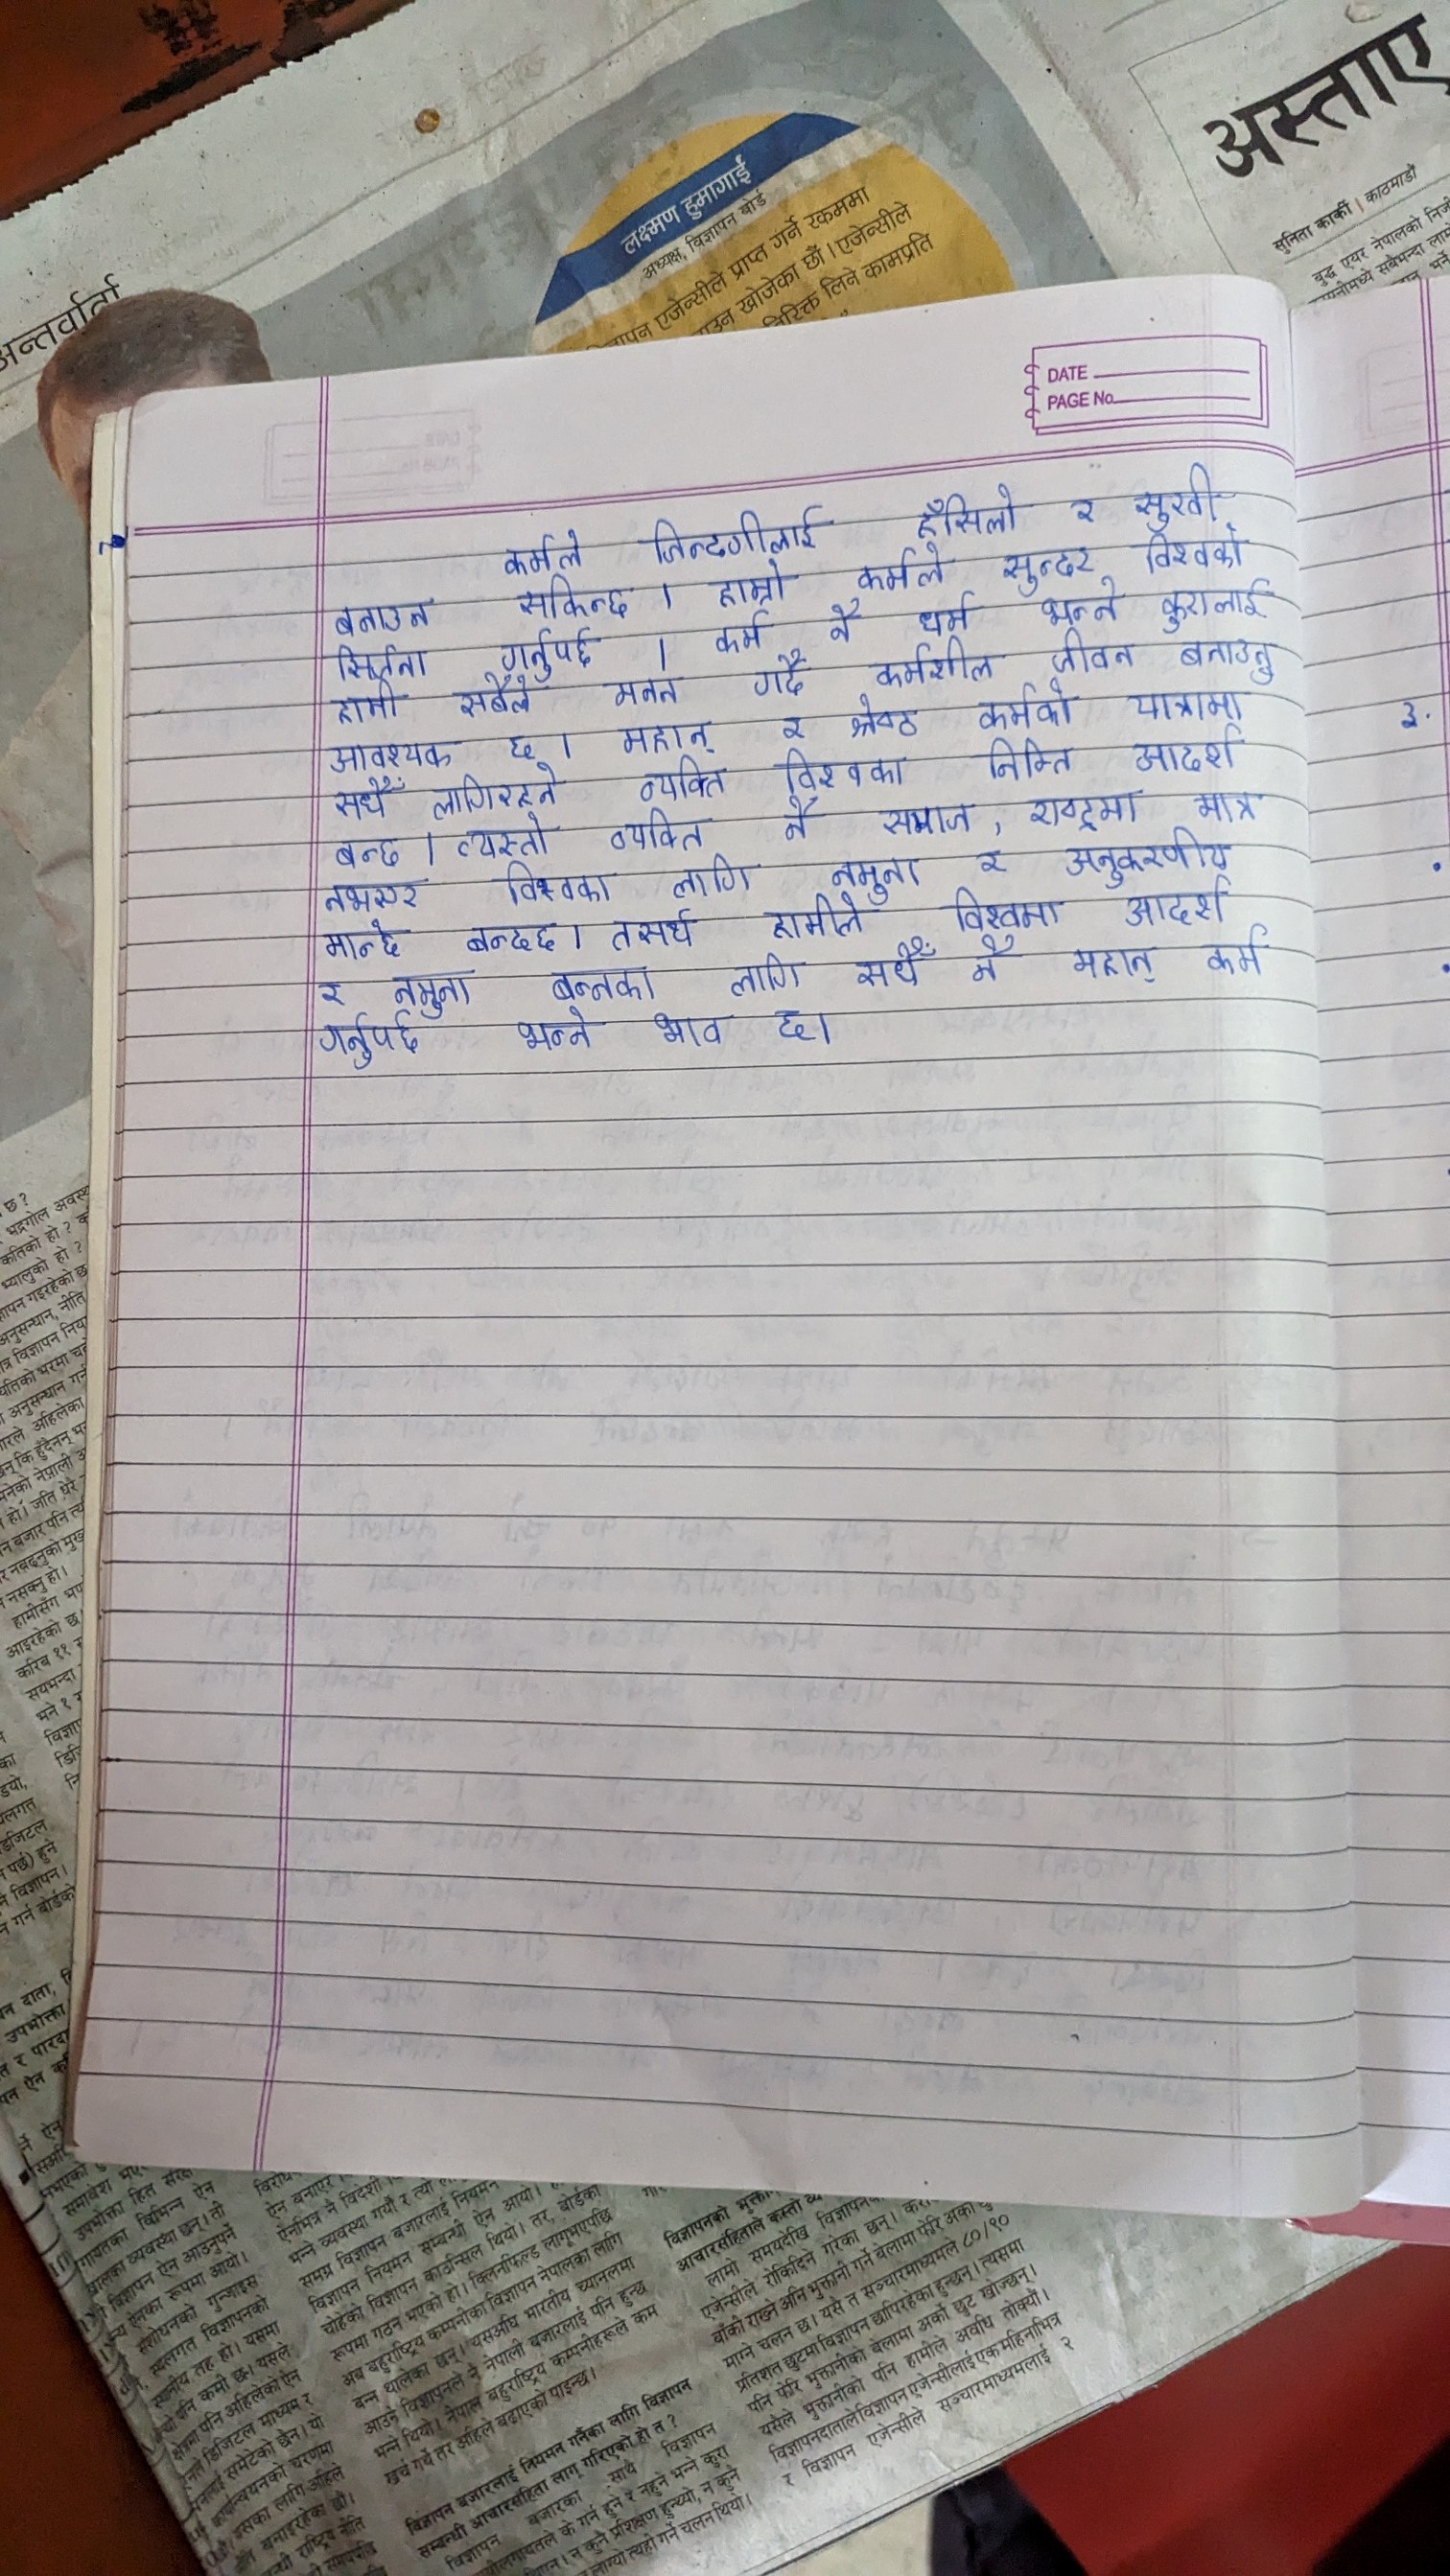text: (643, 501, 823, 556), (1057, 837, 1241, 878), (428, 771, 568, 816), (905, 485, 1034, 533), (775, 748, 915, 789), (1170, 633, 1284, 683), (595, 807, 717, 851), (320, 1016, 421, 1069), (1135, 524, 1246, 571), (1156, 575, 1262, 625), (1119, 879, 1229, 927), (850, 941, 942, 998), (1128, 465, 1225, 518), (542, 962, 673, 1001), (1130, 727, 1253, 768), (512, 1008, 614, 1056), (489, 863, 613, 902), (505, 579, 639, 614), (1068, 936, 1170, 982), (492, 625, 598, 669), (1022, 794, 1140, 833), (876, 642, 990, 683), (494, 525, 591, 571), (453, 915, 568, 954), (974, 685, 1078, 727), (850, 547, 945, 591), (945, 890, 1064, 925), (705, 556, 786, 607), (1122, 686, 1252, 718), (722, 952, 814, 996), (827, 846, 922, 888), (636, 757, 738, 796), (765, 901, 869, 938), (328, 736, 448, 768), (333, 594, 436, 632), (880, 798, 972, 839), (386, 968, 478, 1008), (669, 860, 765, 899), (453, 676, 540, 718), (1032, 586, 1126, 623), (326, 777, 407, 819), (648, 1007, 733, 1047), (1204, 931, 1271, 982), (605, 909, 703, 945), (845, 694, 928, 734), (905, 593, 991, 632), (981, 740, 1068, 778), (319, 879, 428, 909), (999, 545, 1096, 579), (616, 718, 719, 750), (1048, 632, 1131, 671), (451, 821, 551, 853), (324, 922, 404, 961), (329, 646, 425, 678), (611, 669, 678, 711), (768, 1007, 823, 1058), (751, 656, 820, 697), (329, 679, 398, 718), (1193, 782, 1261, 821), (970, 936, 1020, 987), (781, 794, 830, 842), (710, 612, 768, 651), (329, 837, 409, 865), (1062, 479, 1096, 527), (501, 727, 547, 761), (825, 598, 862, 639), (317, 973, 352, 1008), (972, 846, 1007, 876), (775, 711, 813, 738)
